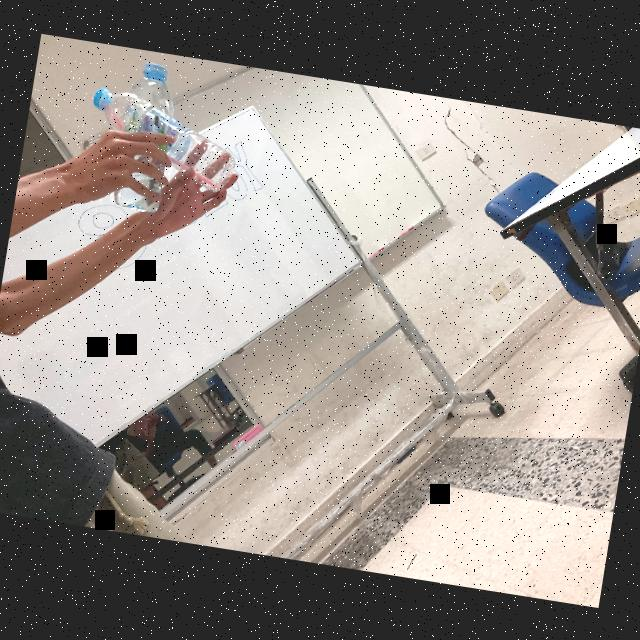plastic_bottle: (81, 86, 245, 196), (109, 60, 184, 216)
